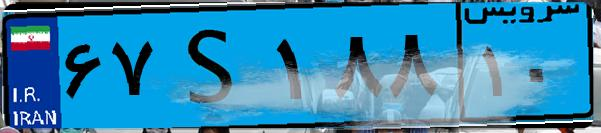0: (525, 38, 570, 115)
1: (270, 28, 330, 110), (475, 38, 525, 113)
6: (57, 26, 110, 100)
7: (110, 28, 158, 98)
8: (385, 28, 445, 110), (330, 28, 385, 110)
S: (158, 12, 270, 120)
